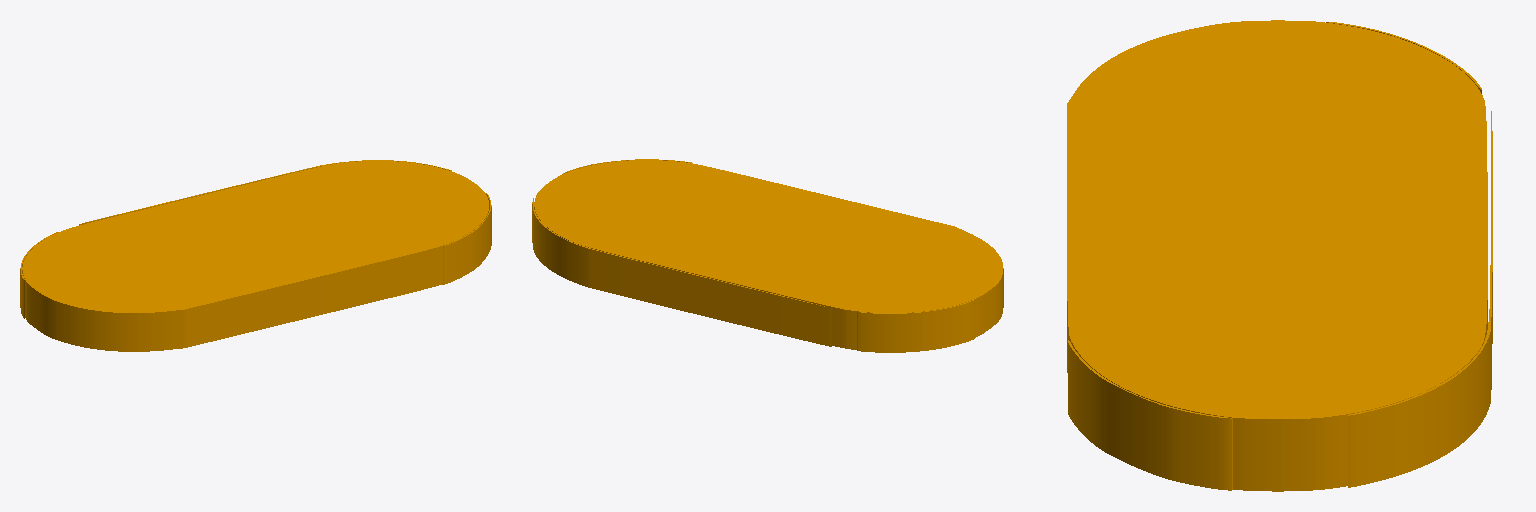
URDF robot description (notch.urdf):
<?xml version="1.0" encoding="utf-8"?>
<robot name="notch.urdf">
  <link name="baseLink">
    <contact>
      <lateral_friction value="0.5"/>
      <rolling_friction value="0.001"/>
      <spinning_friction value="0.001"/>
    </contact>
    <inertial>
      <origin rpy="0 0 0" xyz="0 0 0"/>
      <mass value="0.05"/>
      <inertia ixx="1" ixy="0" ixz="0" iyy="1" iyz="0" izz="1"/>
    </inertial>
    <visual>
      <origin rpy="0 0 0" xyz="0 0 0"/>
      <geometry>
        <mesh filename="notch.obj" scale="0.2 0.2 0.1"/> <!-- Scale x and y by 3.5, z by 1.0 -->
      </geometry>
    </visual>
    <collision>
      <origin rpy="0 0 0" xyz="0 0 0"/>
      <geometry>
        <mesh filename="notch.obj" scale="0.2 0.2 0.1"/> <!-- Scale x and y by 3.5, z by 1.0 -->
      </geometry>
    </collision>
  </link>
</robot>

--- Facts derived from the render (not from the file) ---
Views: 3 orthographic renders of the robot side by side, from view 1: azimuth 30°, elevation 25°; view 2: azimuth 150°, elevation 25°; view 3: azimuth 270°, elevation 25°.
Robot: notch.urdf — 1 links, 0 joints (none); root link baseLink; default pose: every joint at zero.
Visible links, largest first — view 1: baseLink; view 2: baseLink; view 3: baseLink.
Boxes of the visible links, x1,y1,x2,y2 form: baseLink: (20,160,491,351); baseLink: (532,159,1003,352); baseLink: (1067,20,1492,491).
Size in the robot's own frame: 0.4669 by 0.2107 by 0.0394 metres.
Meshes: 1 distinct files referenced, 1 mesh visuals loaded (1 OBJ).